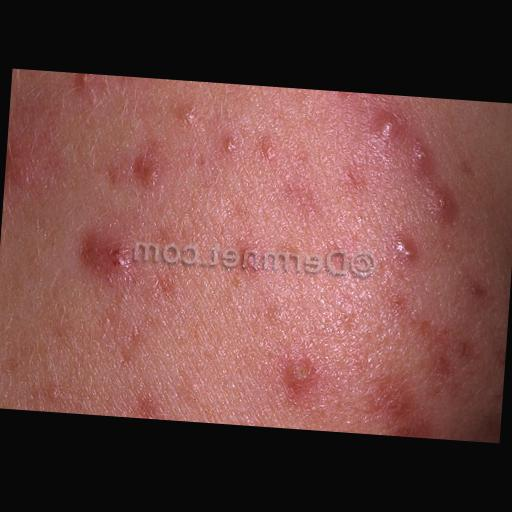Skin_Lesion: (363, 396, 400, 428), (368, 114, 404, 146), (244, 138, 276, 170), (288, 361, 316, 396), (6, 152, 33, 188), (392, 416, 432, 440), (379, 238, 412, 266), (110, 239, 138, 269), (401, 143, 432, 169), (240, 246, 264, 278), (424, 194, 452, 216), (132, 401, 162, 421), (98, 160, 120, 186), (142, 162, 160, 192), (74, 75, 98, 95), (179, 102, 196, 130), (156, 276, 177, 298), (280, 248, 304, 265), (456, 339, 474, 361), (482, 420, 500, 442), (220, 136, 239, 156), (339, 311, 358, 330), (469, 284, 487, 302), (433, 352, 451, 368), (439, 238, 455, 253), (386, 294, 402, 306), (347, 174, 358, 188)
